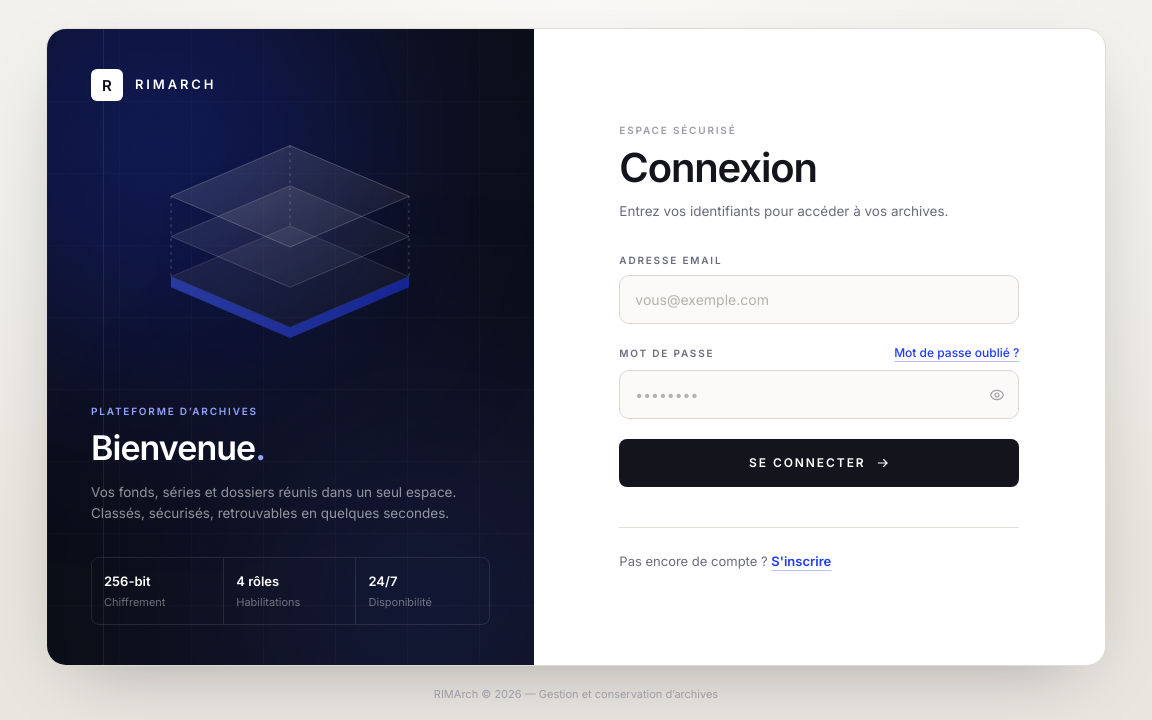
Test: Login page › shows error message on login failure
Type "bad@test.com" into the field with placeholder "vous@exemple.com" at point(819, 300), box [619,275,1019,324]
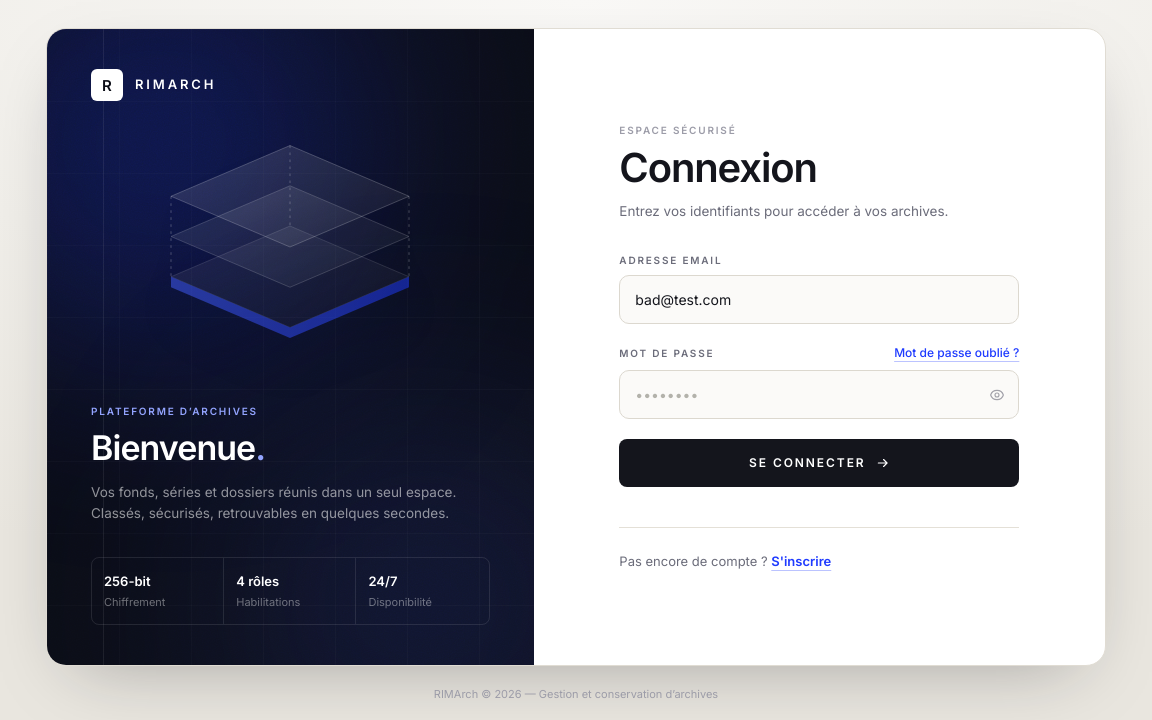
Type "wrong" into the password field with placeholder "••••••••" at point(819, 395), box [619,370,1019,419]
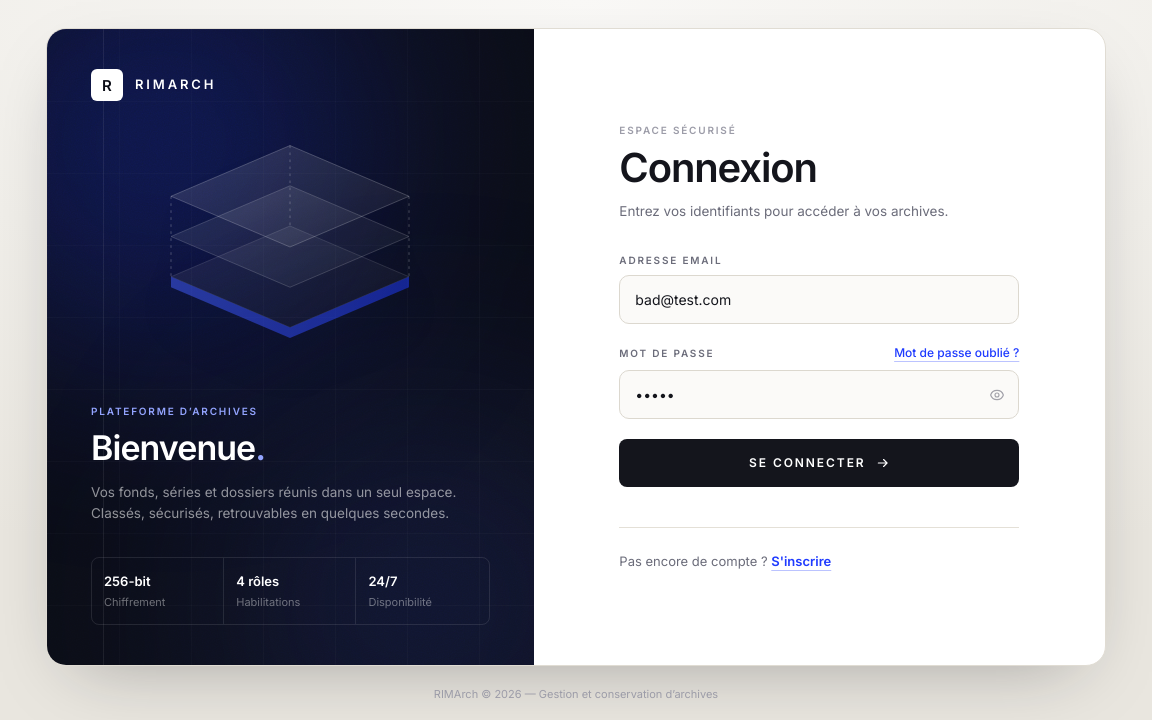
Click the button "Se connecter" at point(819, 463), box [619,439,1019,487]
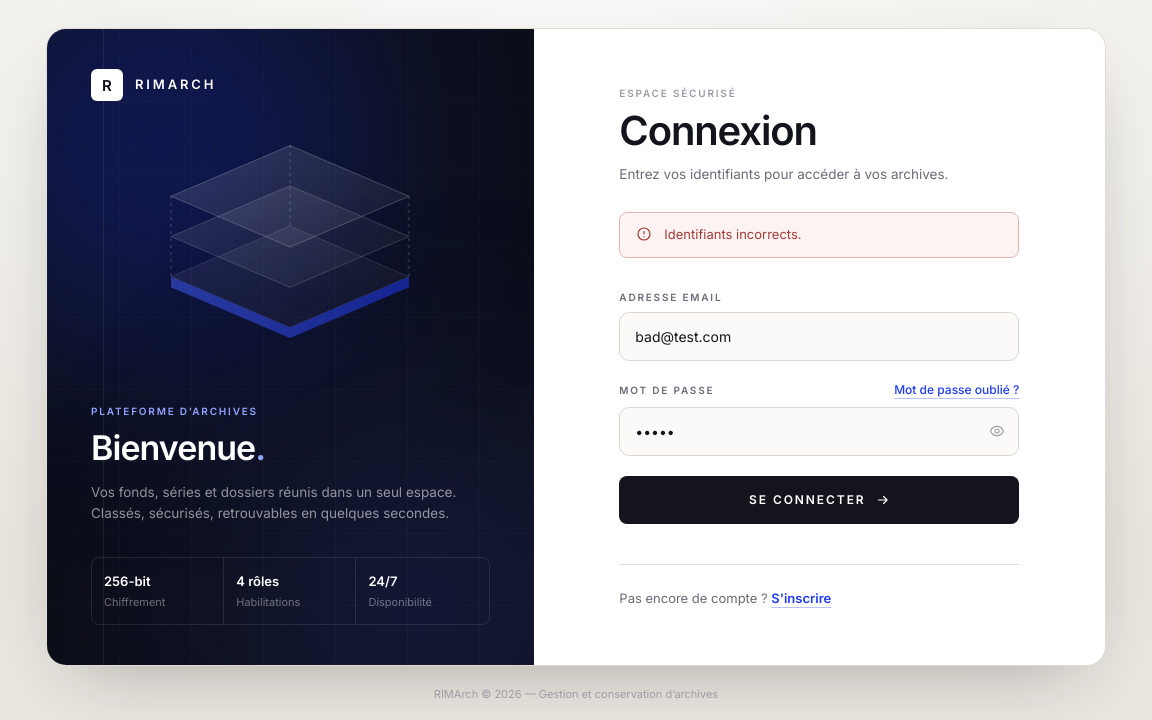
Expected: the text "Identifiants incorrects." is shown, [619,212,1019,258]
